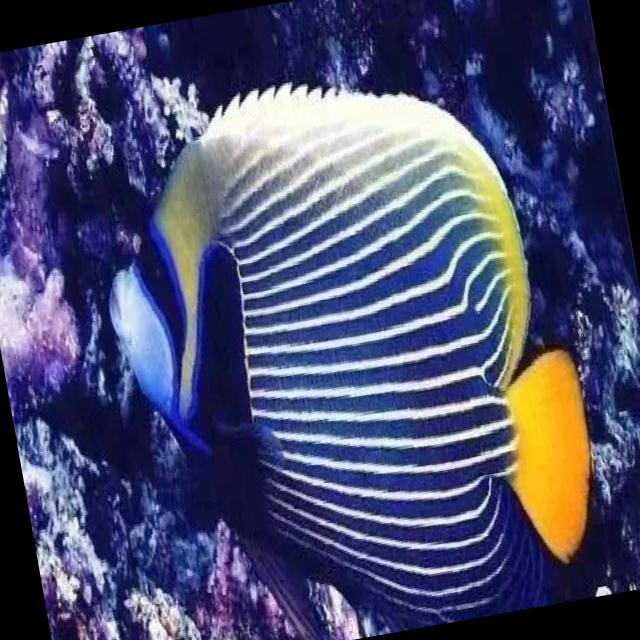AngelFish: (77, 37, 614, 640)
